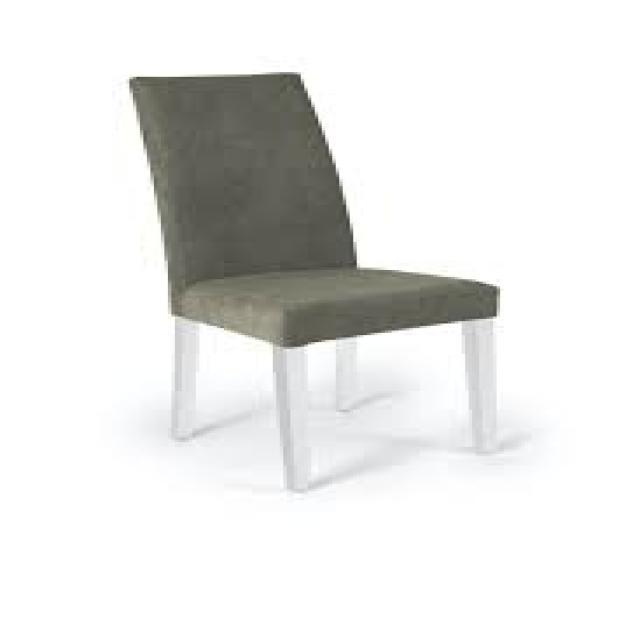bottle: (126, 73, 501, 490)
